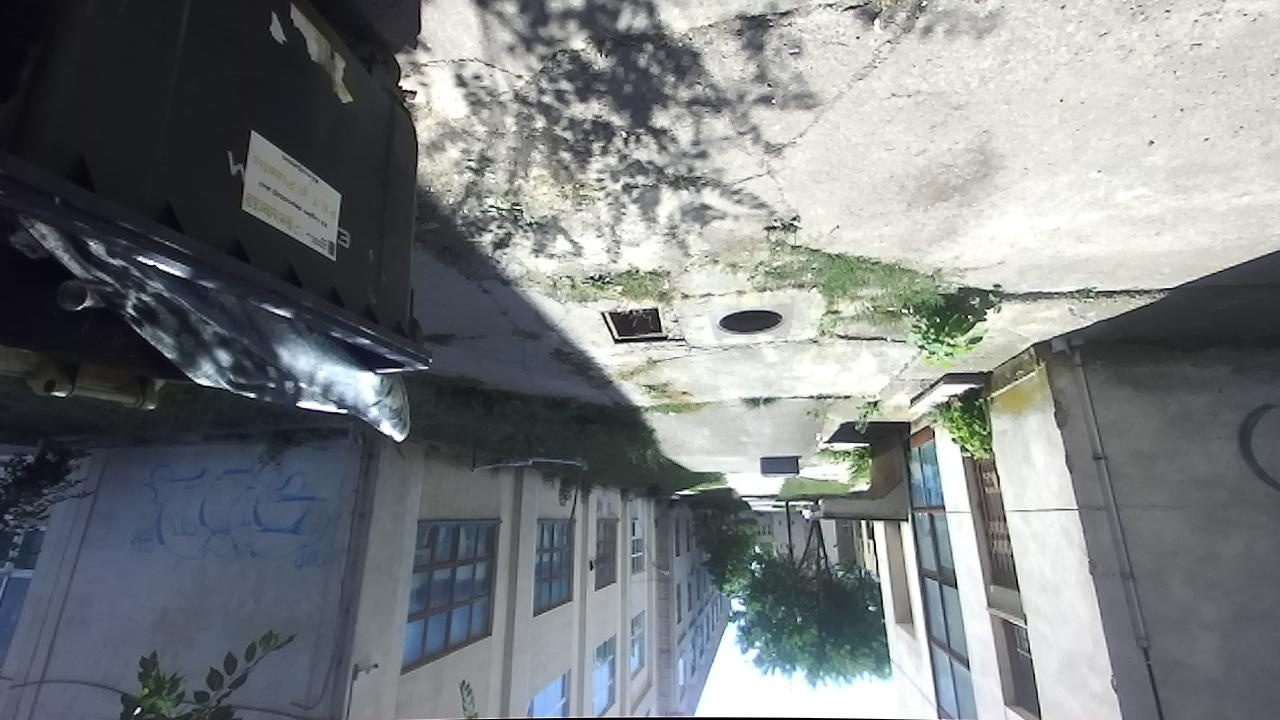drain: (598, 306, 673, 346), (711, 308, 784, 340)
